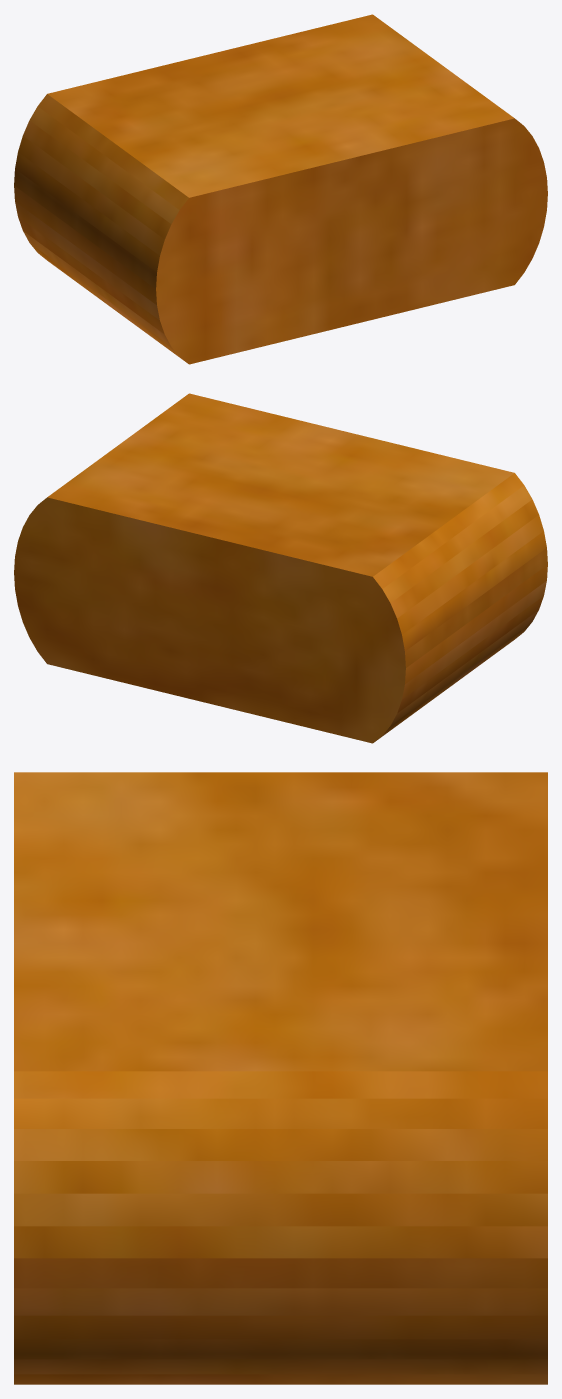
Rendered from original-31.obj.
The picture shows the model from 3 angles, top to bottom: view 1: azimuth 30°, elevation 25°; view 2: azimuth 150°, elevation 25°; view 3: azimuth 270°, elevation 25°; orthographic projection. The views are drawn at different scales.
Visible parts, largest first — view 1: mesh45/mesh45-geometry#mesh45-geometry; view 2: mesh45/mesh45-geometry#mesh45-geometry; view 3: mesh45/mesh45-geometry#mesh45-geometry.
Part boxes in pixels (box(x1,y1,x2,y2)): mesh45/mesh45-geometry#mesh45-geometry: box(14, 14, 547, 364); mesh45/mesh45-geometry#mesh45-geometry: box(14, 393, 547, 743); mesh45/mesh45-geometry#mesh45-geometry: box(14, 772, 547, 1384).
Size of the model in its own units: 0.0552 by 0.0224 by 0.0346.
